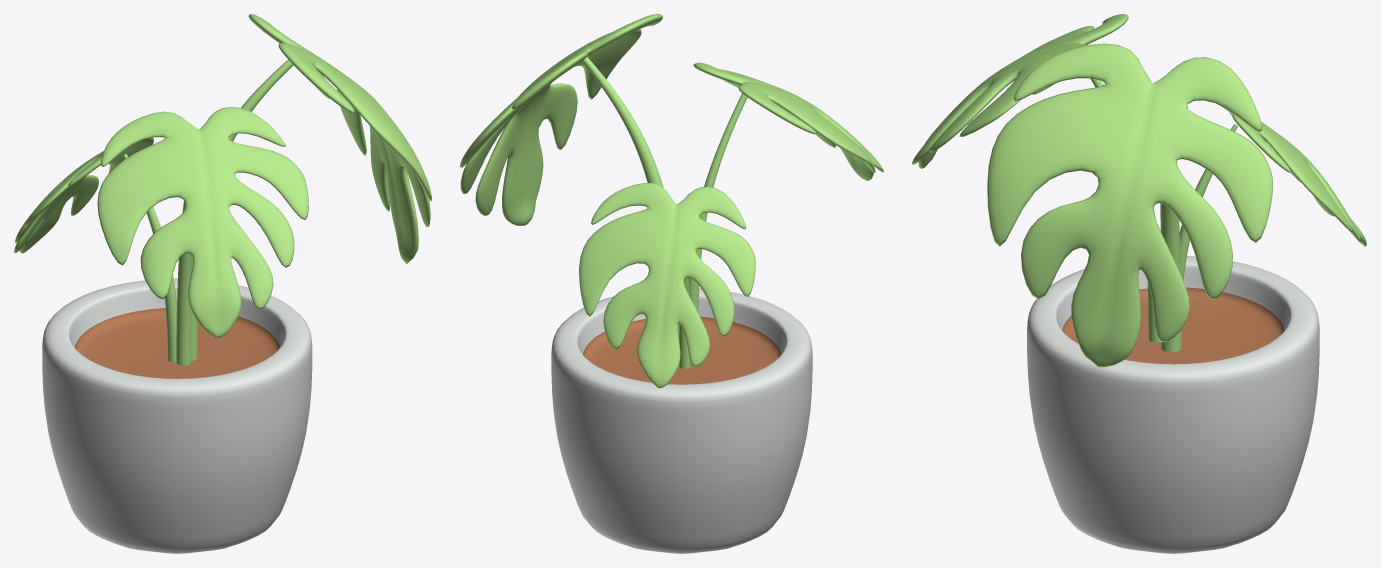
Rendered from monstera.glb.
The picture shows the model from 3 angles, left to right: view 1: azimuth 30°, elevation 25°; view 2: azimuth 150°, elevation 25°; view 3: azimuth 270°, elevation 25°; orthographic projection. The views are drawn at different scales.
Visible parts, largest first — view 1: pot, plant; view 2: pot, plant; view 3: plant, pot.
Part boxes in pixels (x1,y1,x2,y2): pot: (42,278,312,553); plant: (14,14,431,365); pot: (551,288,812,553); plant: (460,14,883,388); plant: (912,14,1366,367); pot: (1027,256,1319,553).
Bounding box in the file's own units: 19.76 × 26.18 × 20.99.
